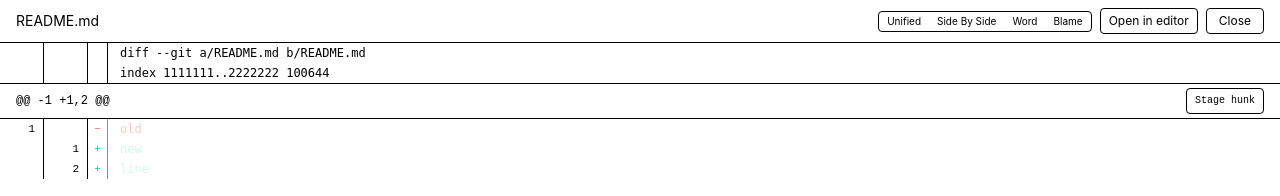
Test: DiffOverlay › switches between unified, split, word, and blame view modes
Click the button "Side by side": (967,21) [929,12,1004,30]
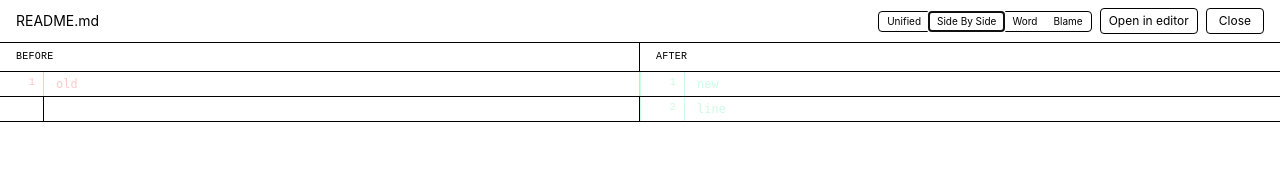
Expected: the text "old" is shown, [56,77,78,91]
Click the button "word": (1025,21) [1004,12,1046,30]
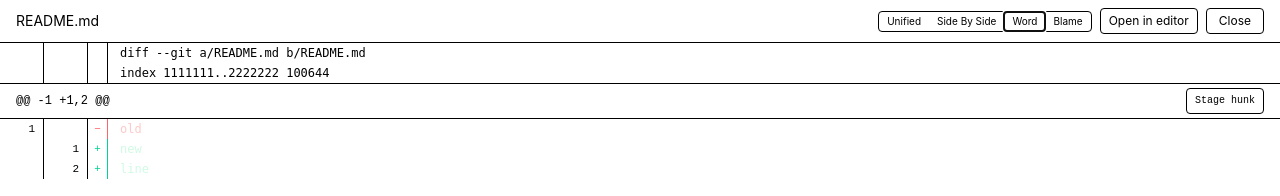
Expected: the text "new" is shown, [120,142,142,156]
Click the button "blame": (1068,21) [1046,12,1091,30]
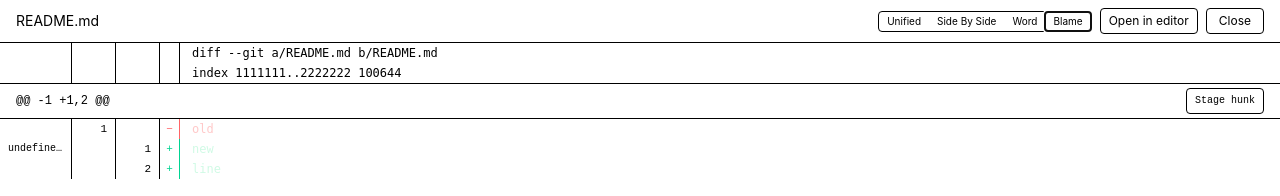
Result: the text "undefined Author" is shown at [0,139,72,159]
